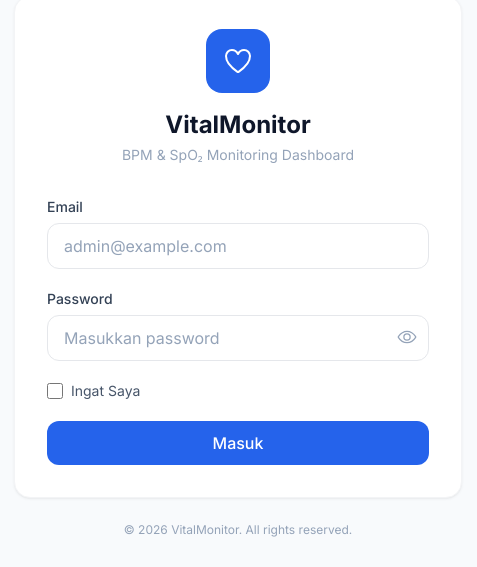
Test case: Login Page › shows validation error for invalid email format
Type "test@test" into the field with placeholder "admin@example.com".
click(238, 246); type("test@test")  # box top-left (47, 223), bottom-right (429, 269)
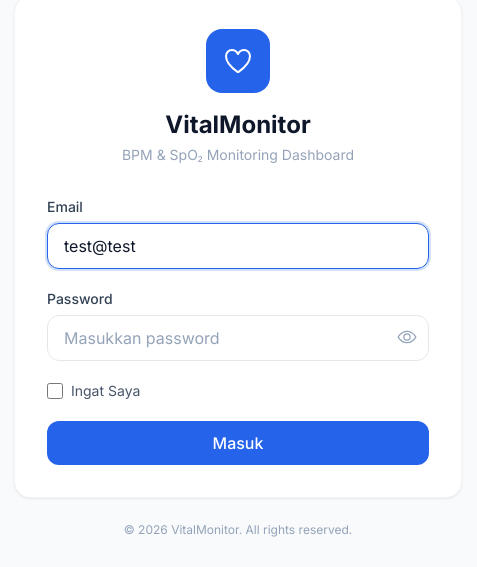
Type "password123" into the password field with placeholder "Masukkan password".
click(238, 338); type("password123")  # box top-left (47, 315), bottom-right (429, 361)
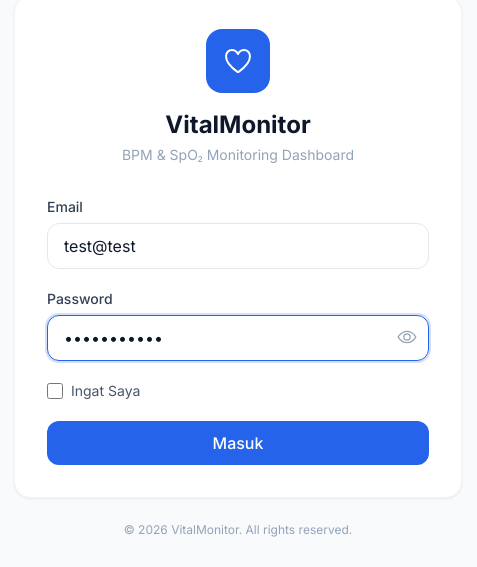
Click the button "Masuk".
click(238, 443)  # box top-left (47, 421), bottom-right (429, 465)
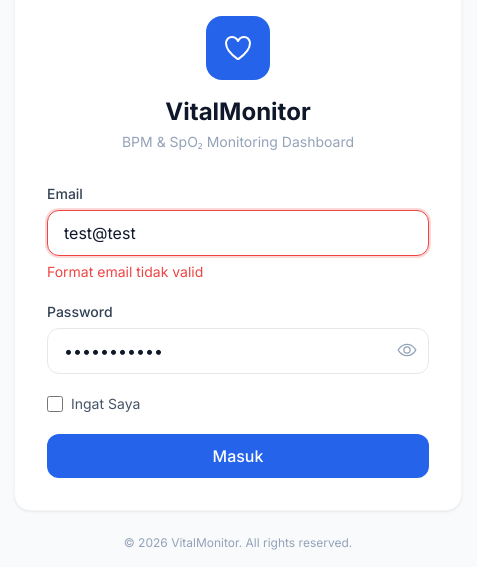
Check: the text "Format email tidak valid" is shown, box top-left (47, 263), bottom-right (203, 280)
